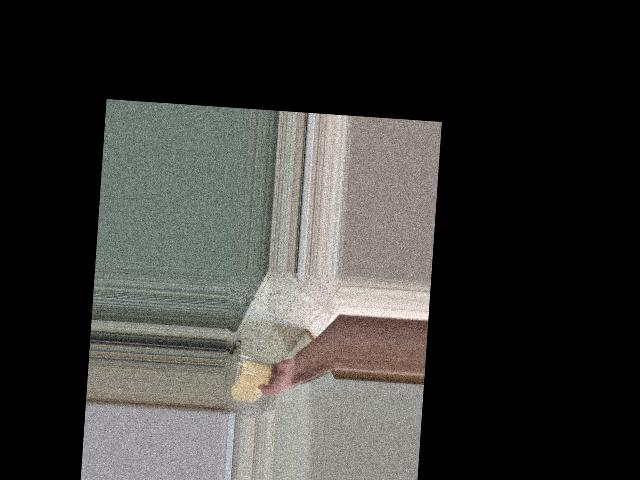cheese: (226, 354, 274, 406)
